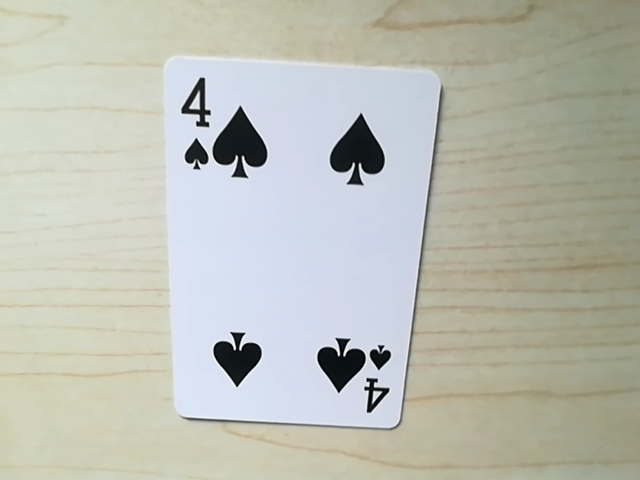ht 4: (169, 66, 226, 178), (358, 340, 396, 422)
